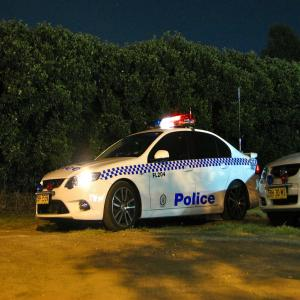Vehicle-registration-plate: (269, 185, 289, 201), (38, 196, 50, 205)
